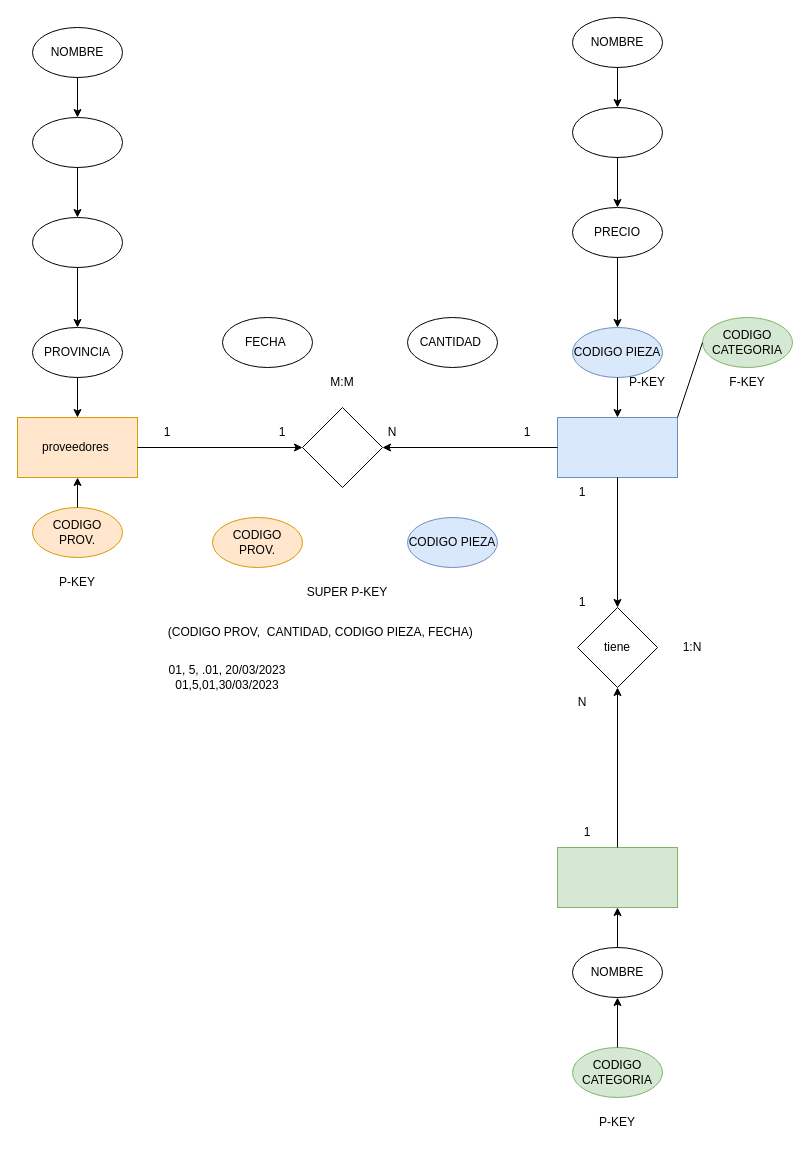
This 810x1155 diagram has some shape labels left out. The centre of each missing label's shape, as x and y in pixels:
categoria: point 617,877
CIUDAD: point 77,142
COLOR: point 617,132
DIRECCION: point 77,242
piezas: point 617,447
suministra: point 342,447
